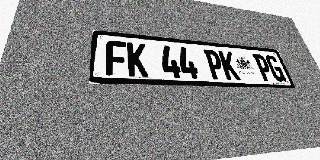4: (160, 45, 182, 78), (177, 47, 199, 79)
F: (105, 40, 127, 76)
G: (264, 55, 287, 82)
K: (127, 42, 148, 77), (218, 51, 241, 80)
P: (203, 49, 226, 80), (252, 54, 275, 81)
